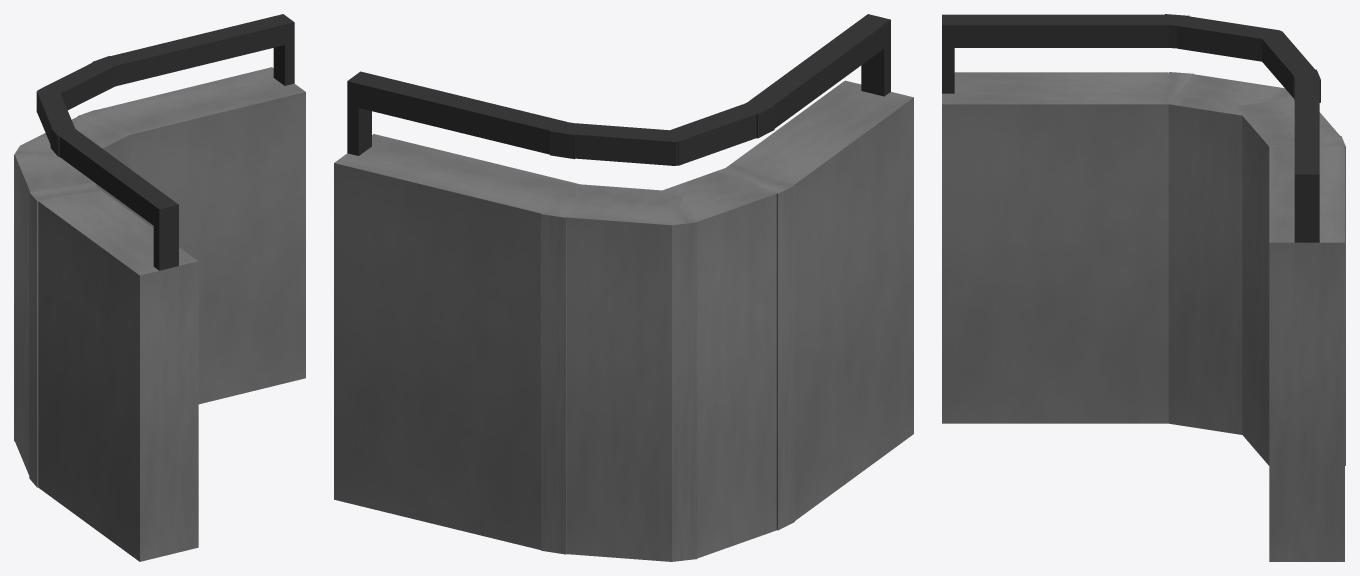
Rendered from dc_metro_fence_210.obj.
The picture shows the model from 3 angles, left to right: view 1: azimuth 30°, elevation 25°; view 2: azimuth 150°, elevation 25°; view 3: azimuth 270°, elevation 25°; orthographic projection. The views are drawn at different scales.
Parts seen in each view (by area): view 1: cube; view 2: cube; view 3: cube.
Part boxes in pixels (bbox=[...]): cube: bbox=[14, 14, 305, 561]; cube: bbox=[334, 14, 913, 561]; cube: bbox=[942, 14, 1345, 561].
Size of the model in its own units: 1 by 1.06 by 1.
Materials: 2 (2 with a texture image).
